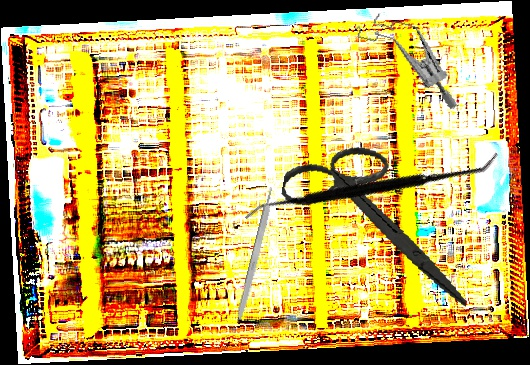Iris Scissors: (267, 134, 490, 309)
Scalpel Handle: (234, 186, 278, 325)
Spatula Surgical: (241, 58, 501, 313)
Speculum: (339, 5, 477, 112)
